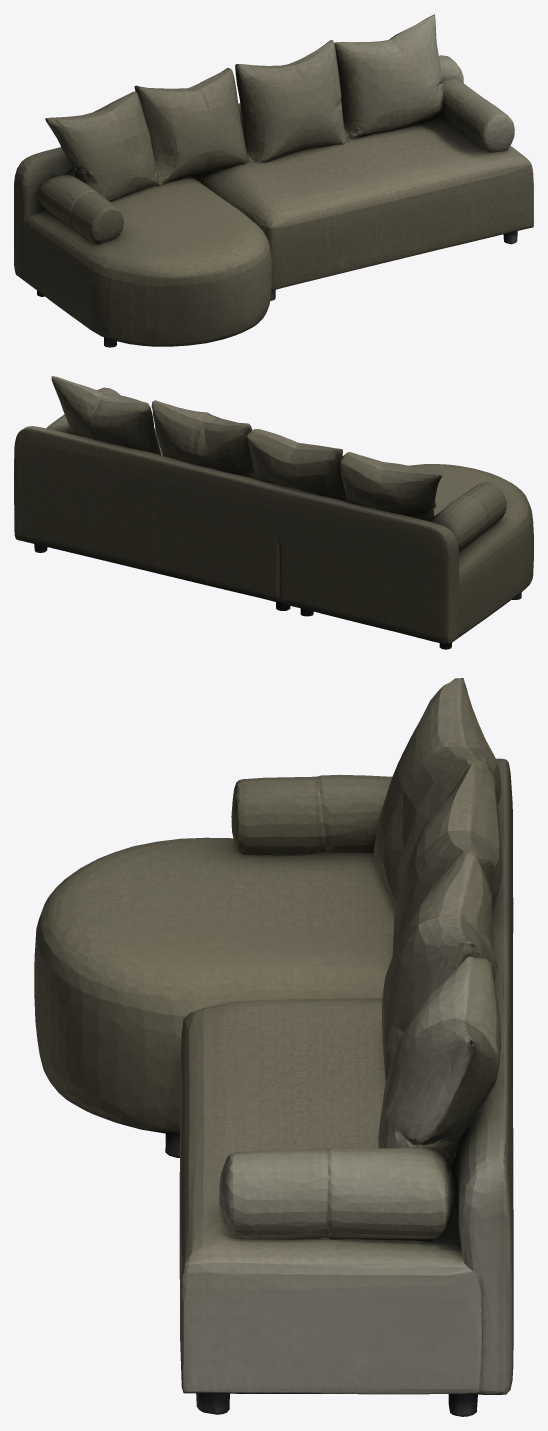
Rendered from SALA LEXY IZQUIERDA.glb.
3 renders of one model, top to bottom at view 1: azimuth 30°, elevation 25°; view 2: azimuth 150°, elevation 25°; view 3: azimuth 270°, elevation 25°, orthographic. The views are drawn at different scales.
Parts seen in each view (by area): view 1: world; view 2: world; view 3: world.
Boxes of the visible parts, left/top/right/bottom form: world: left=14, top=14, right=533, bottom=347; world: left=14, top=376, right=533, bottom=649; world: left=34, top=678, right=513, bottom=1416.
Bounding box in the file's own units: 0.9996 × 0.3916 × 0.4759.
Materials: 1 (1 with a texture image).
